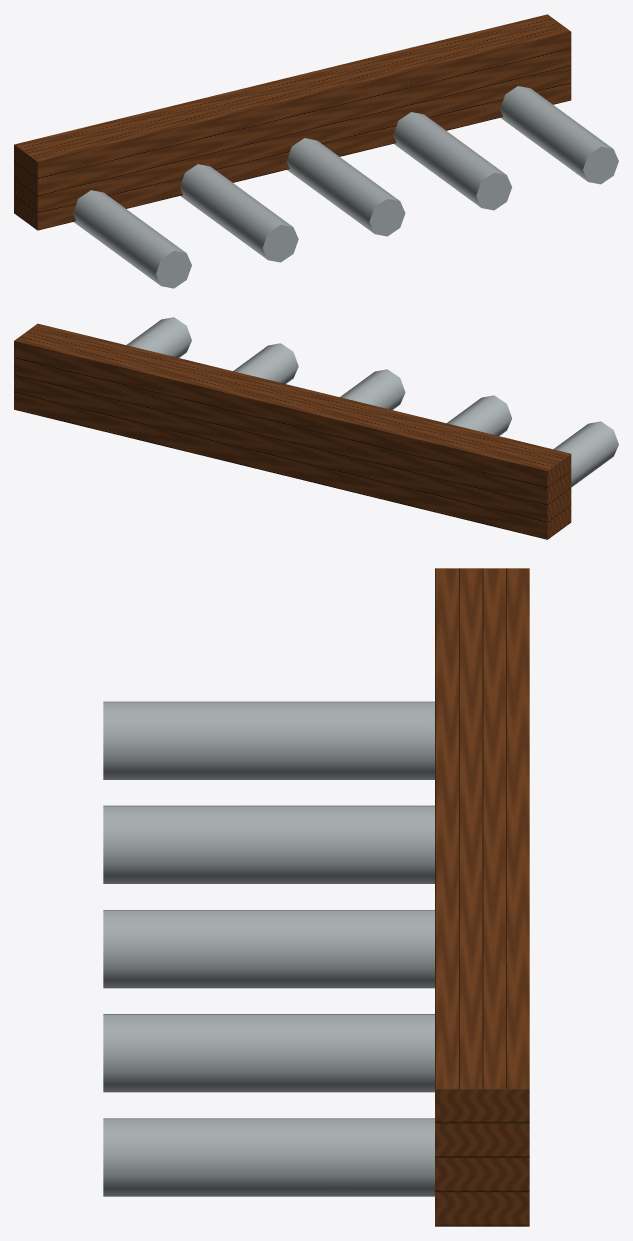
File: suburban-outbreak-interiors-bathroom-towel-rail-3e6fd2d9__20006.glb
3 views of the same model, one above another, from view 1: azimuth 30°, elevation 25°; view 2: azimuth 150°, elevation 25°; view 3: azimuth 270°, elevation 25° (orthographic). The views are drawn at different scales.
Parts seen in each view (by area): view 1: bathroom-towel-rail; view 2: bathroom-towel-rail; view 3: bathroom-towel-rail.
Part boxes in pixels (left/top/right/bottom): bathroom-towel-rail: left=14, top=14, right=618, bottom=288; bathroom-towel-rail: left=14, top=317, right=618, bottom=539; bathroom-towel-rail: left=103, top=568, right=529, bottom=1226.
Bounding box in the file's own units: 0.65 × 0.092 × 0.225.
2 materials, 1 textured.
